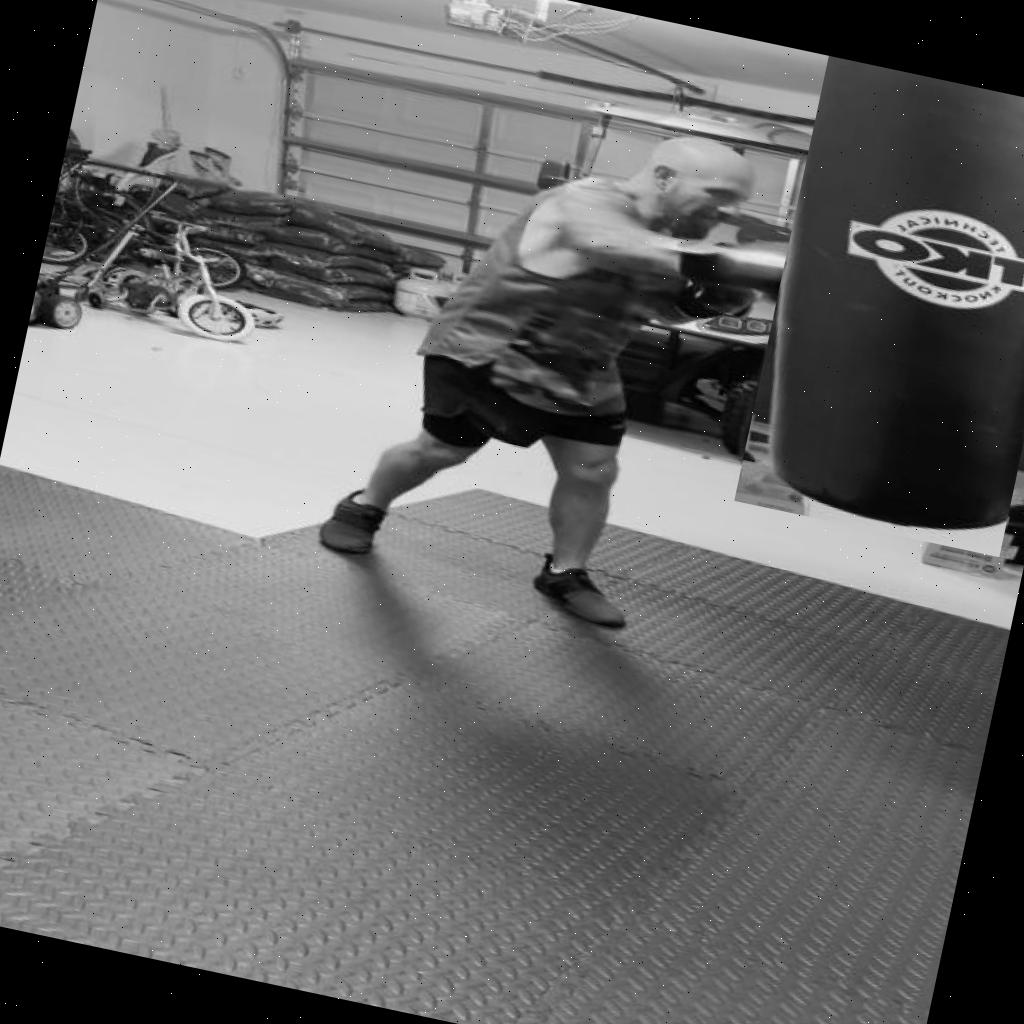bag: (734, 56, 1024, 557)
cross: (499, 94, 863, 374)
